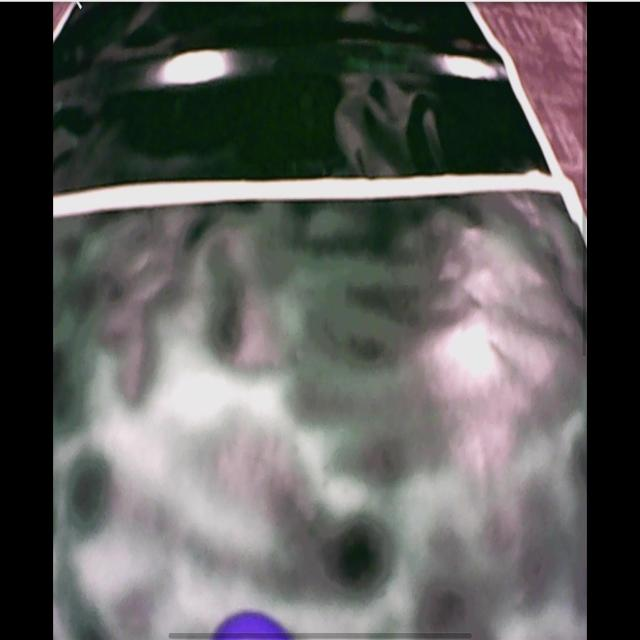ball: (215, 608, 289, 640)
